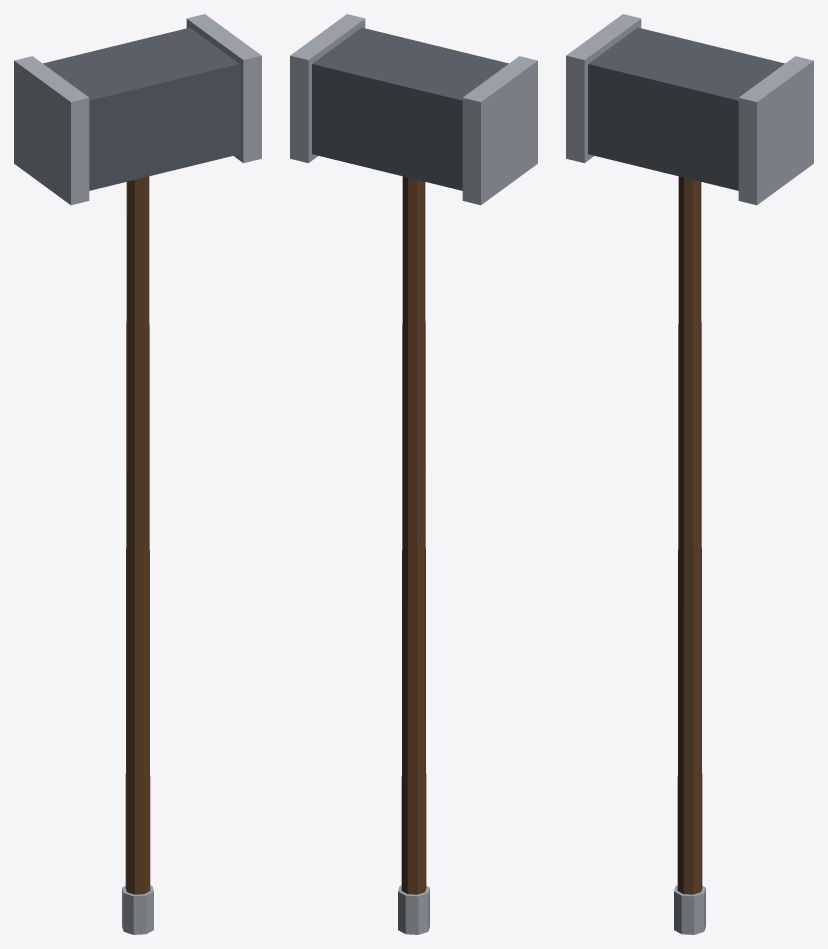
Rendered from g-maul.glb.
3 views of the same model, side by side, from view 1: azimuth 30°, elevation 25°; view 2: azimuth 150°, elevation 25°; view 3: azimuth 330°, elevation 25° (orthographic).
Visible parts, largest first — view 1: g-maul; view 2: g-maul; view 3: g-maul.
Part boxes in pixels (box(x1,y1,x2,y2)): g-maul: box(14, 14, 261, 934); g-maul: box(290, 14, 537, 934); g-maul: box(566, 14, 813, 934).
Size of the model in its own units: 0.31 by 1.35 by 0.16.
